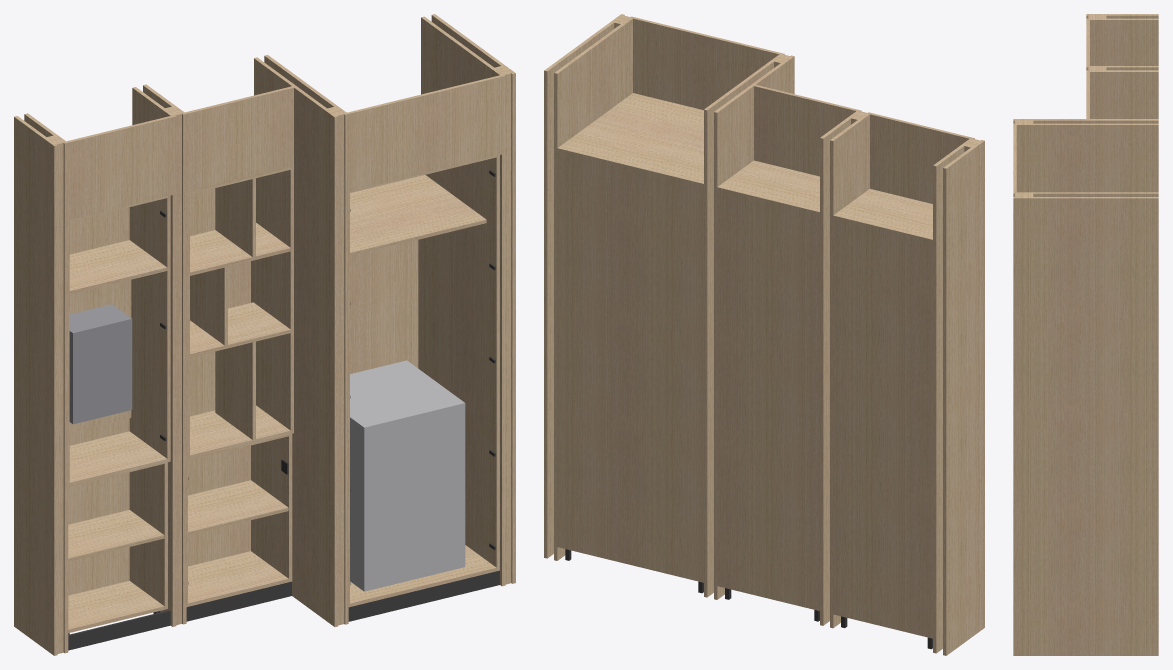
File: korpus.glb
3 views of the same model, side by side, from view 1: azimuth 30°, elevation 25°; view 2: azimuth 150°, elevation 25°; view 3: azimuth 270°, elevation 25° (orthographic). The views are drawn at different scales.
Parts seen in each view (by area): view 1: 2025-284 Resepsjon høyskap; view 2: 2025-284 Resepsjon høyskap; view 3: 2025-284 Resepsjon høyskap.
Boxes of the visible parts, x1=… form: 2025-284 Resepsjon høyskap: x1=14, y1=14, x2=515, y2=655; 2025-284 Resepsjon høyskap: x1=544, y1=14, x2=984, y2=655; 2025-284 Resepsjon høyskap: x1=1013, y1=14, x2=1158, y2=655.
Bounding box in the file's own units: 2417 × 2797 × 805.
Materials: 6 (1 with a texture image).
